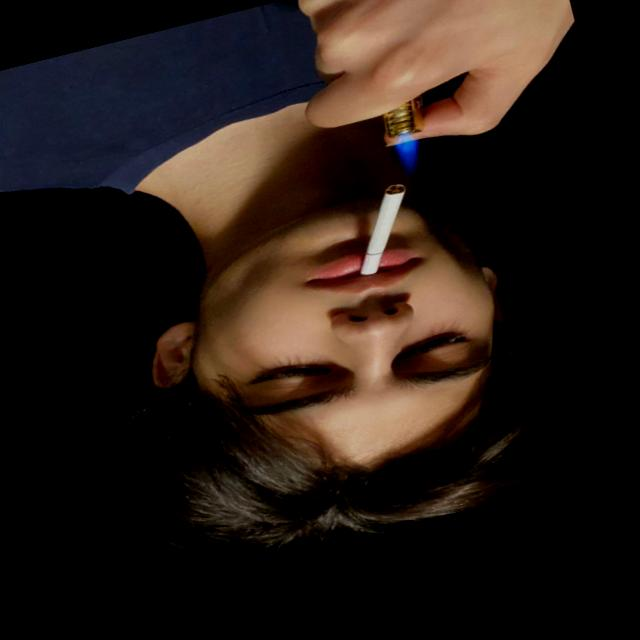smoke: (318, 168, 444, 290)
